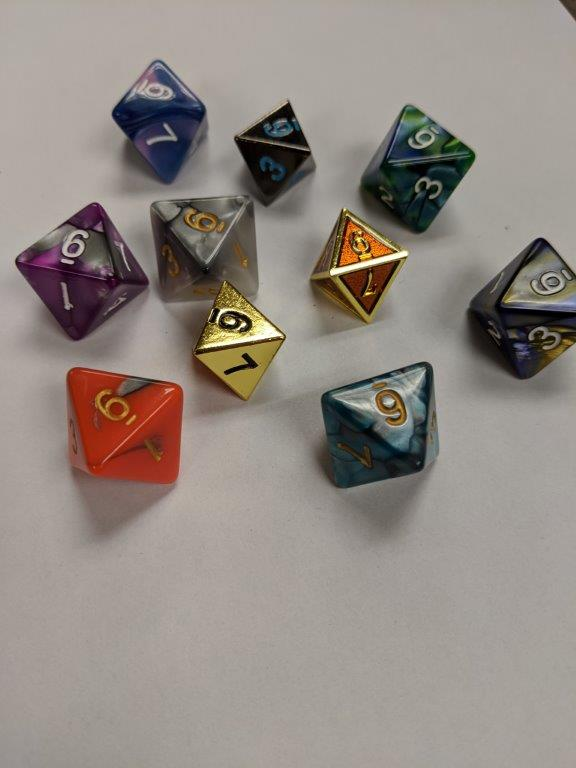d8-6: (15, 203, 148, 344), (321, 354, 441, 492), (61, 364, 190, 492), (468, 238, 576, 379), (361, 103, 473, 236), (149, 193, 262, 301), (190, 279, 287, 403), (111, 57, 208, 180), (306, 206, 408, 320), (234, 98, 318, 204)
